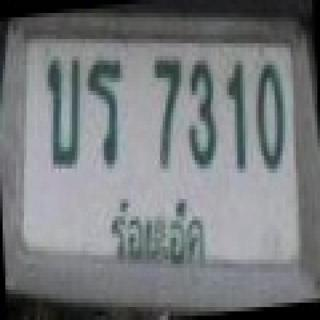A26: (43, 51, 84, 172)
A35: (86, 57, 127, 168)
N00: (255, 55, 291, 179)
N01: (225, 56, 252, 177)
N03: (187, 56, 221, 170)
N07: (145, 49, 188, 173)
P54: (105, 195, 211, 269)
